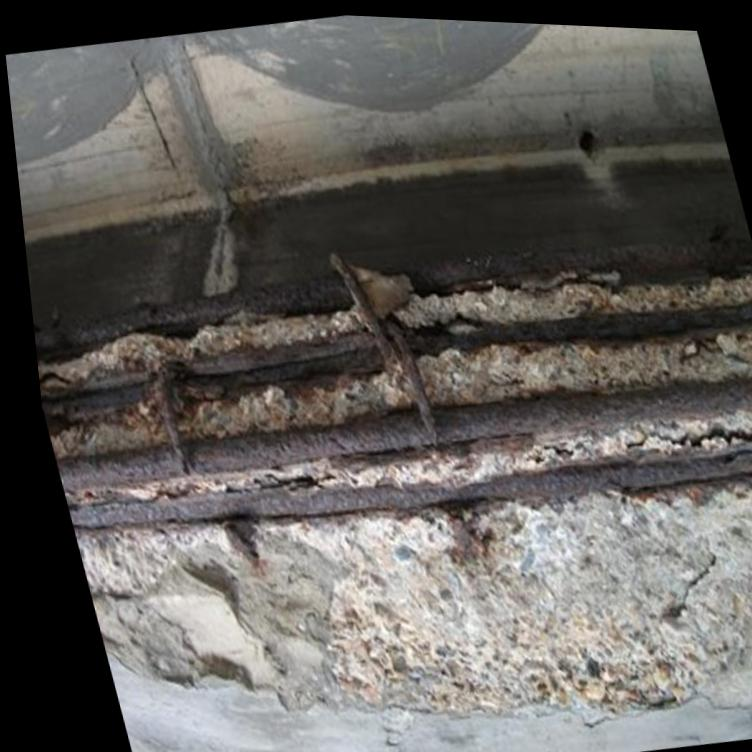damage: (30, 247, 752, 714)
